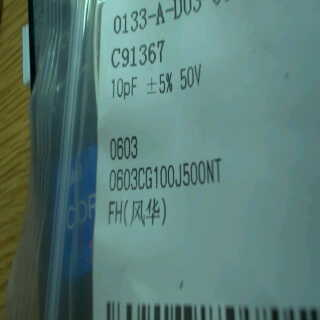10pF: (110, 70, 142, 112)
